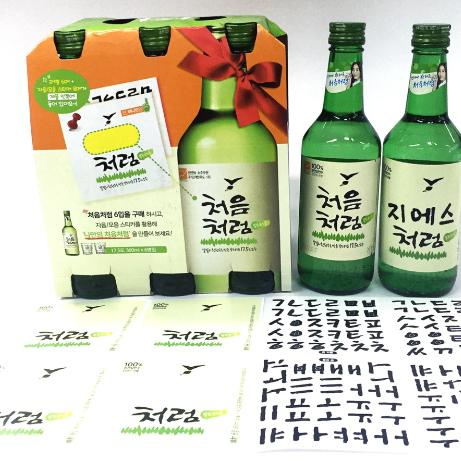soju: (297, 19, 459, 299)
